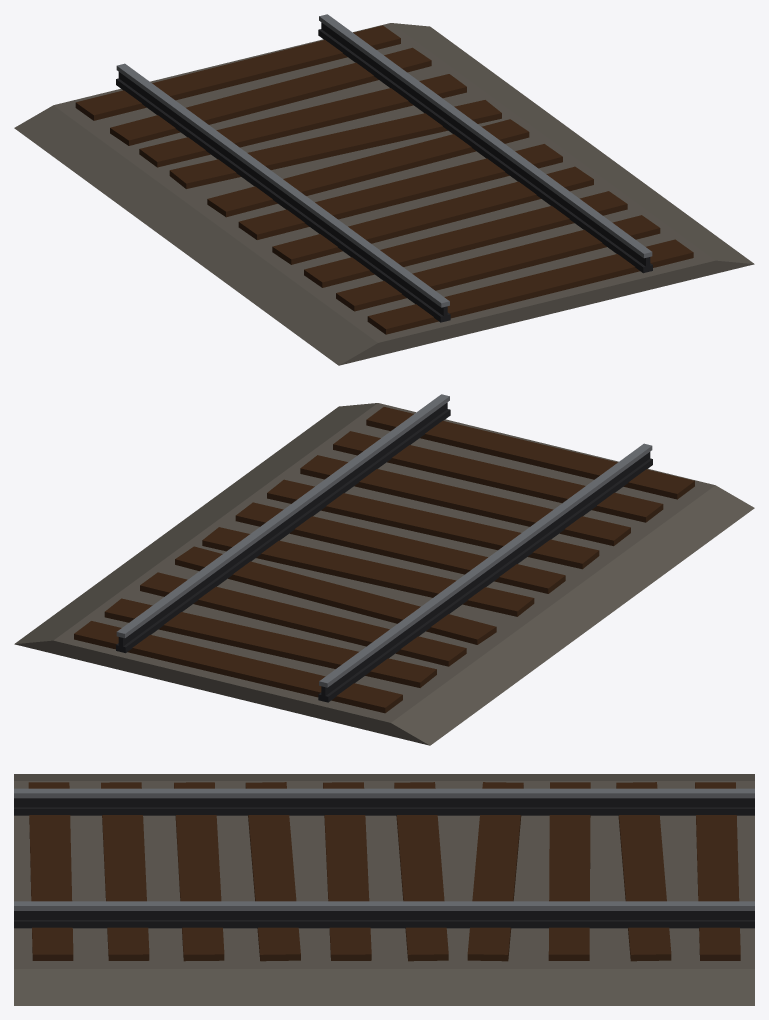
The model's file is SM_Rail_Straight_4m.obj.
3 renders of one model, top to bottom at view 1: azimuth 30°, elevation 25°; view 2: azimuth 150°, elevation 25°; view 3: azimuth 270°, elevation 25°, orthographic. The views are drawn at different scales.
Parts seen in each view (by area): view 1: SM_Rail_Straight_4m; view 2: SM_Rail_Straight_4m; view 3: SM_Rail_Straight_4m.
Part boxes in pixels (x1,y1,x2,y2): SM_Rail_Straight_4m: (14,14,754,365); SM_Rail_Straight_4m: (14,394,754,745); SM_Rail_Straight_4m: (14,774,754,1005).
Bounding box in the file's own units: 2.96 × 0.254 × 4.
